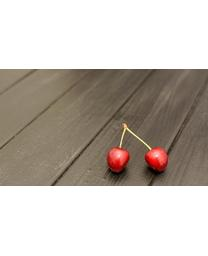cherry: (106, 147, 130, 172), (145, 147, 169, 172)
